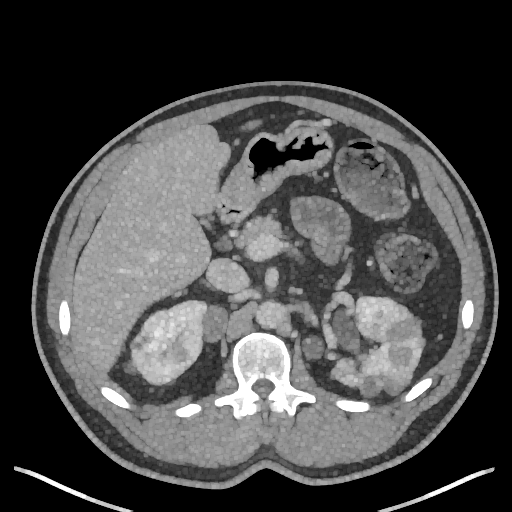Lesion: (384, 319, 425, 342)
